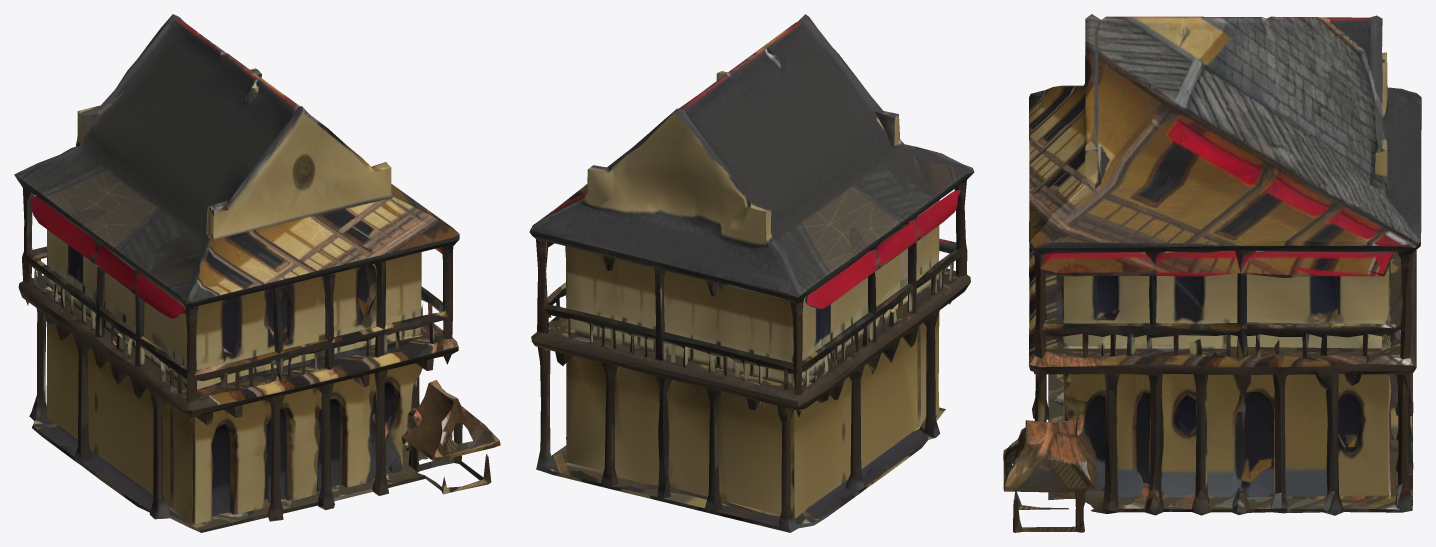
The model's file is guaranies_maravilla.glb.
The picture shows the model from 3 angles, left to right: view 1: azimuth 30°, elevation 25°; view 2: azimuth 150°, elevation 25°; view 3: azimuth 270°, elevation 25°; orthographic projection. The views are drawn at different scales.
Parts seen in each view (by area): view 1: geometry_0; view 2: geometry_0; view 3: geometry_0.
Boxes of the visible parts, left/top/right/bottom form: geometry_0: left=14, top=14, right=500, bottom=532; geometry_0: left=529, top=14, right=974, bottom=532; geometry_0: left=1003, top=14, right=1421, bottom=532.
Bounding box in the file's own units: 5.05 × 6.2 × 5.4.
Materials: 1 (1 with a texture image).
